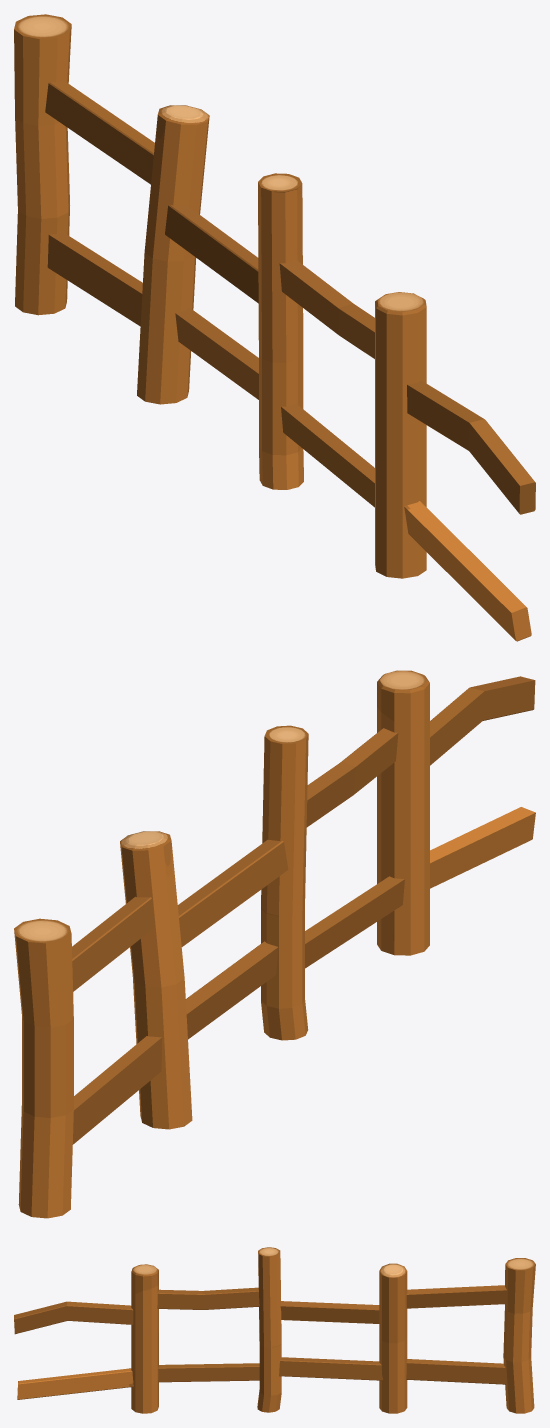
File: Fence.fbx
3 renders of one model, top to bottom at view 1: azimuth 30°, elevation 25°; view 2: azimuth 150°, elevation 25°; view 3: azimuth 270°, elevation 25°, orthographic. The views are drawn at different scales.
Parts seen in each view (by area): view 1: Fence; view 2: Fence; view 3: Fence.
Boxes of the visible parts, left/top/right/bottom form: Fence: left=14, top=14, right=535, bottom=641; Fence: left=14, top=670, right=535, bottom=1218; Fence: left=14, top=1247, right=535, bottom=1413.
Bounding box in the file's own units: 63.13 × 272 × 829.
Materials: 1 (1 with a texture image).
